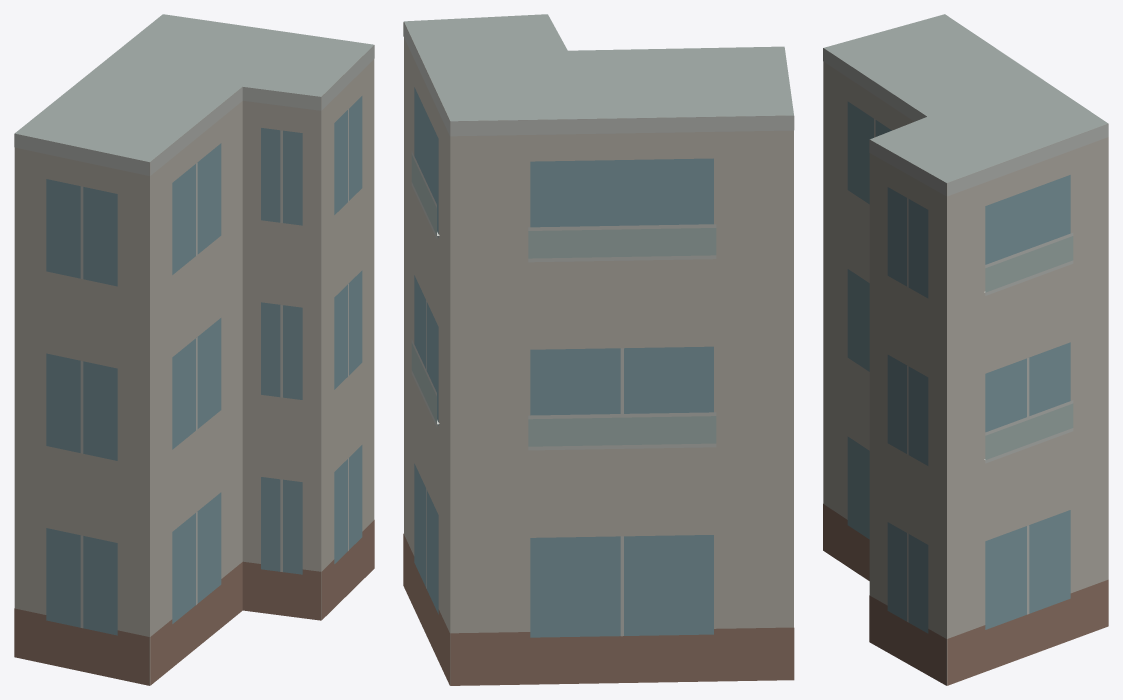
The model's file is survey-upis-32472237.glb.
3 views of the same model, side by side, from view 1: azimuth 30°, elevation 25°; view 2: azimuth 150°, elevation 25°; view 3: azimuth 270°, elevation 25° (orthographic). The views are drawn at different scales.
Parts seen in each view (by area): view 1: survey-upis-32472237.tmp; view 2: survey-upis-32472237.tmp; view 3: survey-upis-32472237.tmp.
Boxes of the visible parts, x1,y1,x2,y2 form: survey-upis-32472237.tmp: (14, 14, 374, 685); survey-upis-32472237.tmp: (403, 14, 794, 685); survey-upis-32472237.tmp: (823, 14, 1108, 685).
Size of the model in its own units: 6.61 by 9.15 by 4.72.
